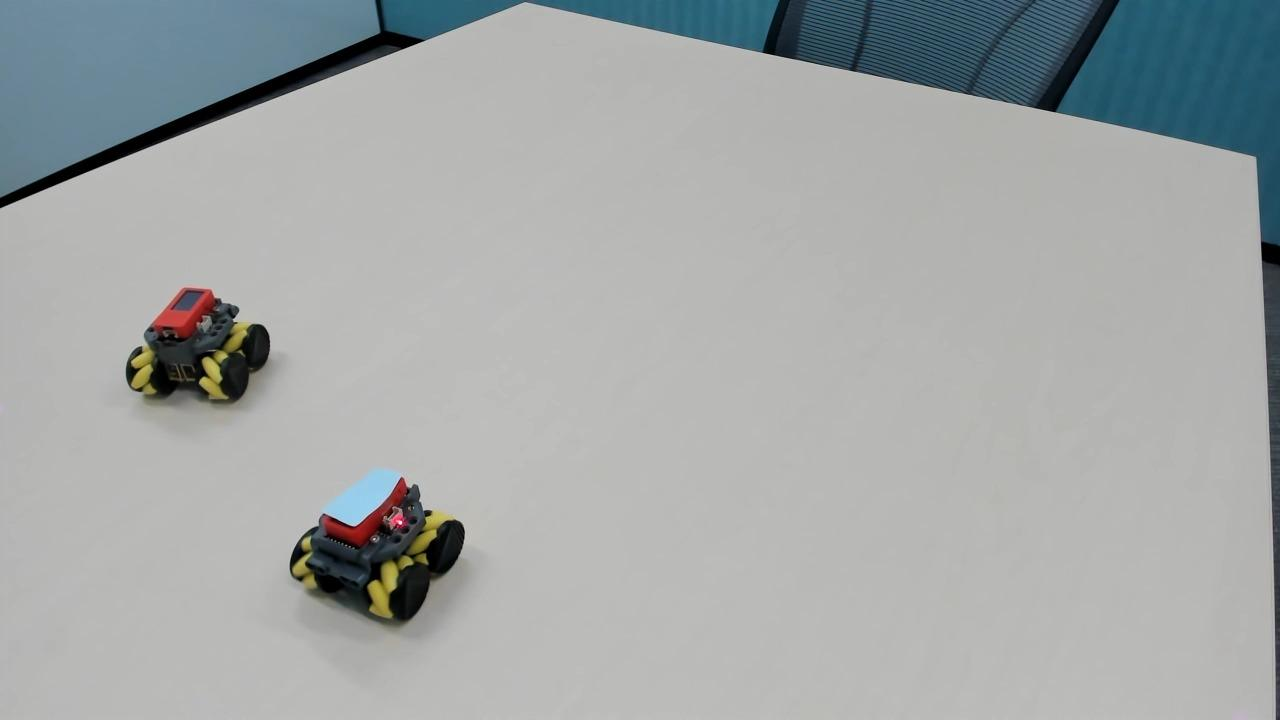B-Robot: (278, 463, 471, 634)
R-Robot: (115, 281, 282, 420)
